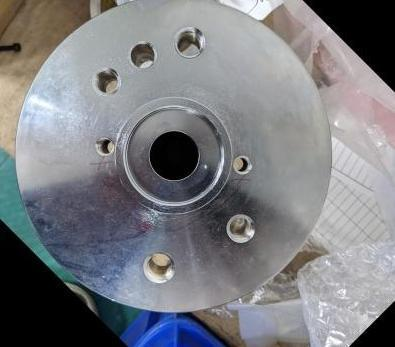hole: (128, 236, 187, 295), (212, 201, 269, 259), (79, 54, 133, 108), (163, 15, 216, 69), (116, 30, 167, 81), (222, 143, 263, 184), (87, 128, 123, 163)
